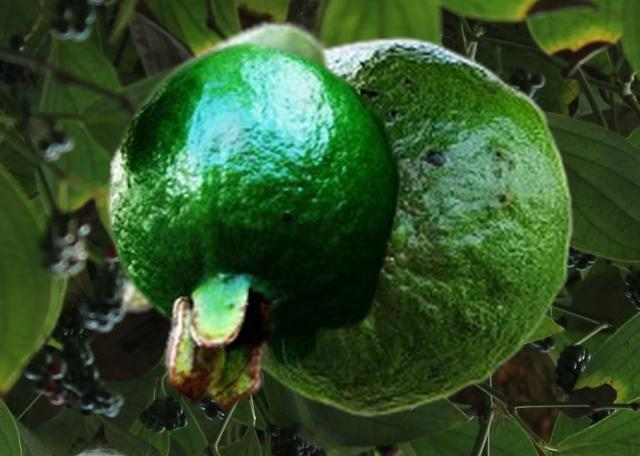guava: (263, 36, 574, 417), (106, 40, 403, 411), (119, 18, 341, 321)
